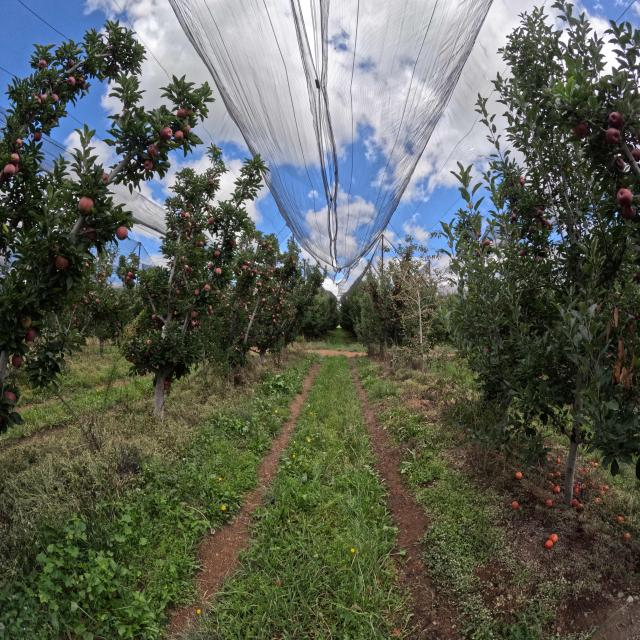-FireBlight-: (612, 336, 635, 389), (627, 322, 635, 346), (593, 302, 603, 320), (606, 321, 611, 344), (613, 306, 618, 328), (606, 353, 616, 359), (632, 374, 636, 387)
